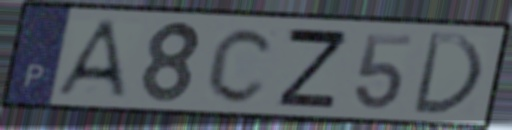5: (352, 30, 417, 111)
8: (138, 18, 203, 105)
A: (51, 17, 131, 101)
C: (204, 24, 280, 106)
D: (408, 29, 486, 118)
Z: (275, 25, 351, 111)
